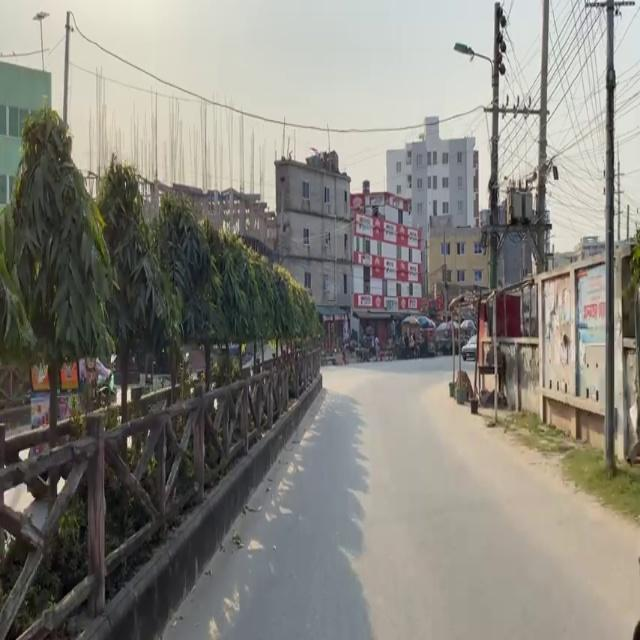Light-pole: (480, 0, 508, 328), (603, 0, 617, 475)
Pole: (0, 341, 324, 639)
Traffic-cone: (447, 285, 495, 413)
